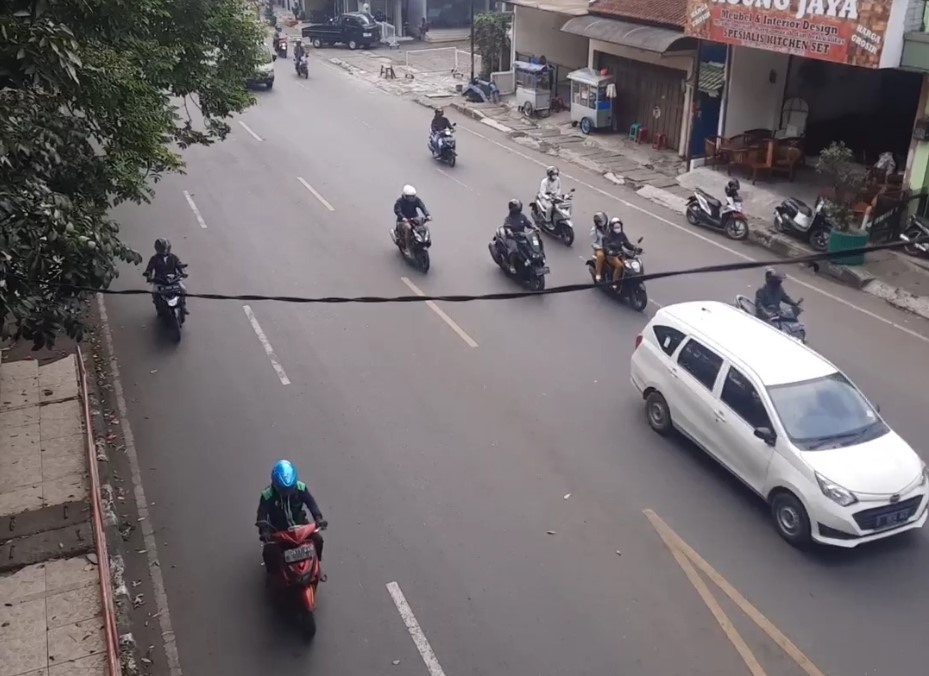mobil: (759, 373, 927, 554)
motor: (251, 458, 328, 648), (486, 199, 555, 293), (588, 209, 649, 311), (142, 238, 186, 346), (394, 184, 439, 274), (530, 163, 574, 246), (427, 105, 461, 164)
